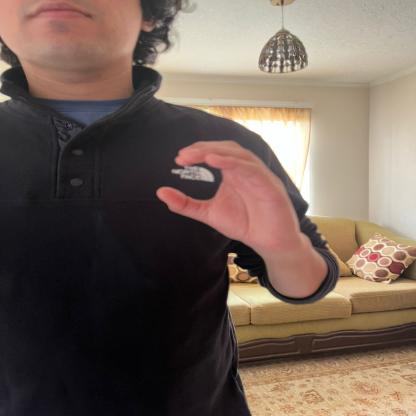C: (156, 136, 299, 250)
